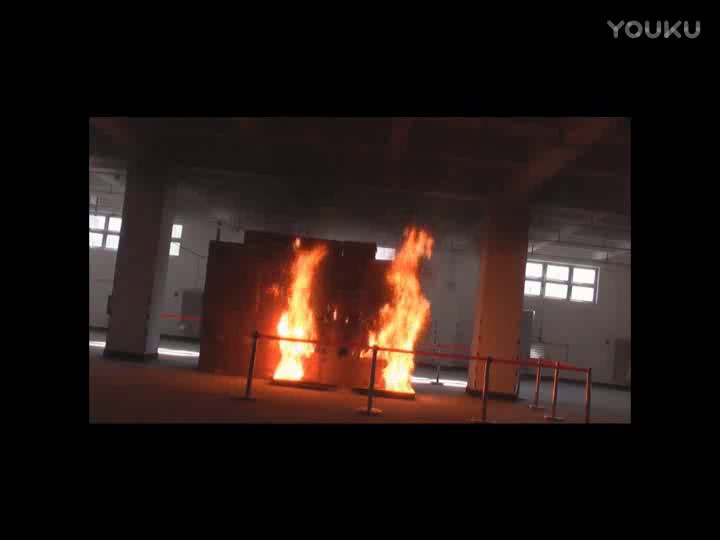fire: (373, 230, 432, 391), (273, 245, 326, 387)
